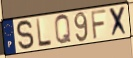9: (73, 11, 89, 44)
F: (90, 9, 108, 41)
L: (35, 18, 53, 49)
Q: (53, 13, 73, 46)
S: (16, 18, 36, 52)
X: (108, 5, 129, 39)
